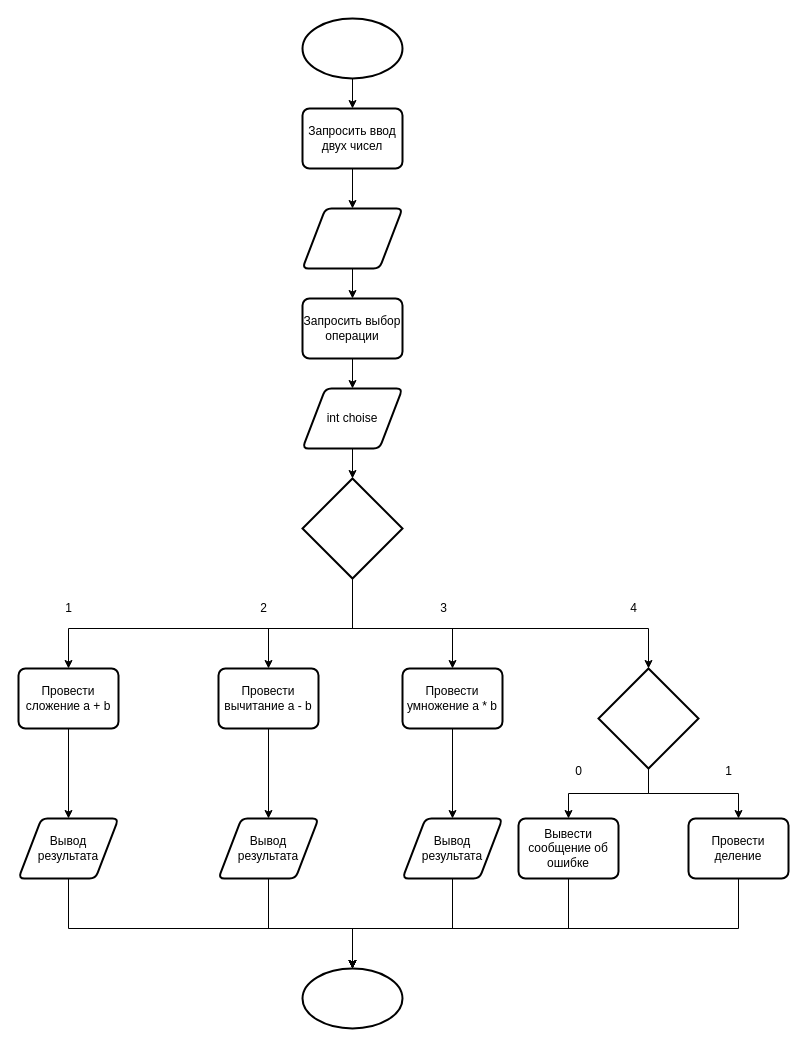
The diagram is 806 pixels wide and 1046 high, and some of its shapes have lost their labels. The centre of each missing label's shape, as x and y in pixels:
choise ==: the point at 352,528
float a float b: the point at 352,238
if b ==: the point at 648,718
Конец: the point at 352,998
Начало: the point at 352,48
